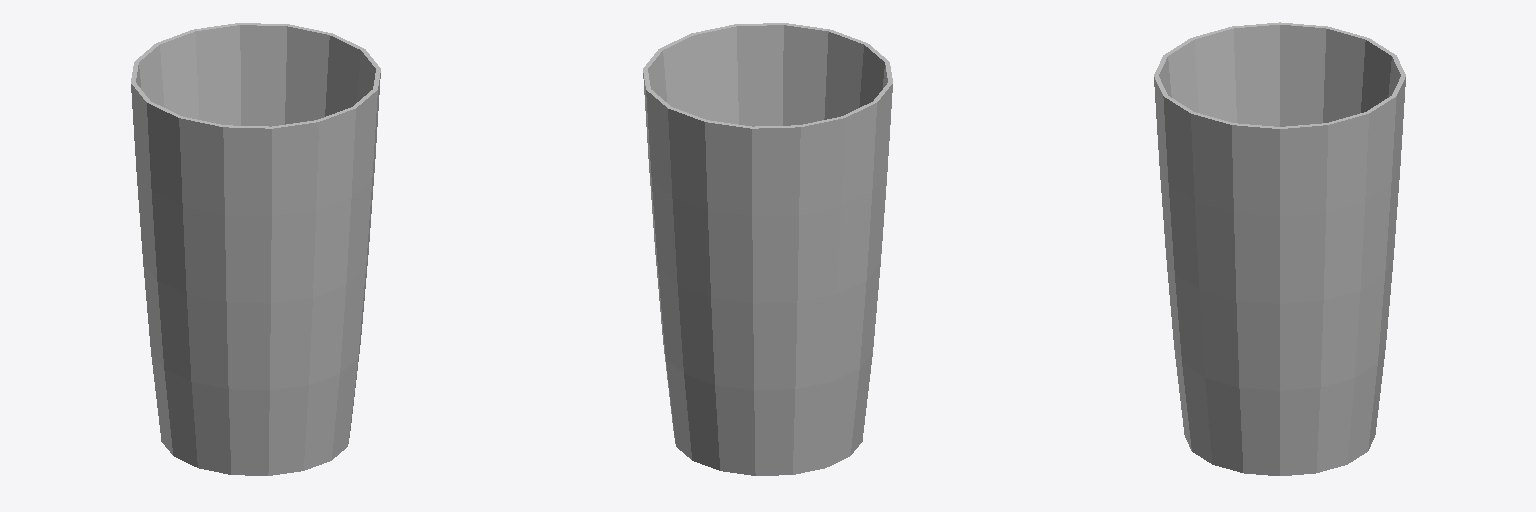
The model's file is large_cup_textured.obj.
The picture shows the model from 3 angles: view 1: azimuth 30°, elevation 25°; view 2: azimuth 150°, elevation 25°; view 3: azimuth 270°, elevation 25°; orthographic projection.
Parts seen in each view (by area): view 1: Large_Cup; view 2: Large_Cup; view 3: Large_Cup.
Part boxes in pixels (x1,y1,x2,y2): Large_Cup: (131, 23, 380, 475); Large_Cup: (643, 23, 892, 475); Large_Cup: (1154, 22, 1405, 475).
Size of the model in its own units: 106 by 167 by 106.